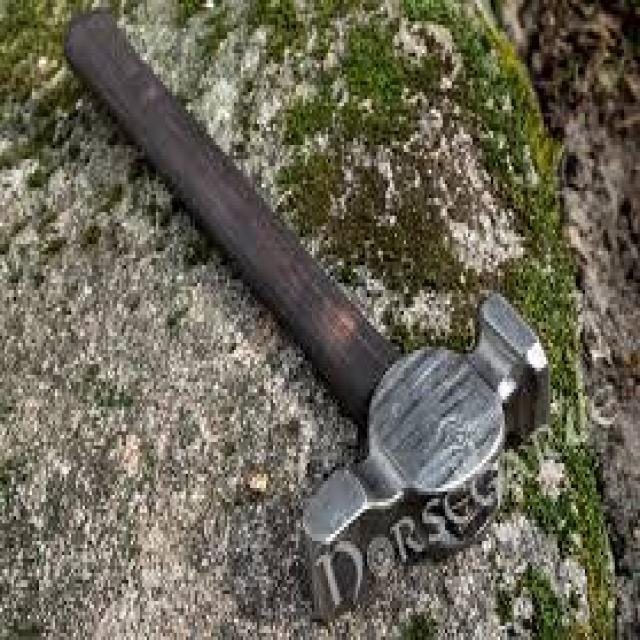hammer: (63, 0, 563, 626)
